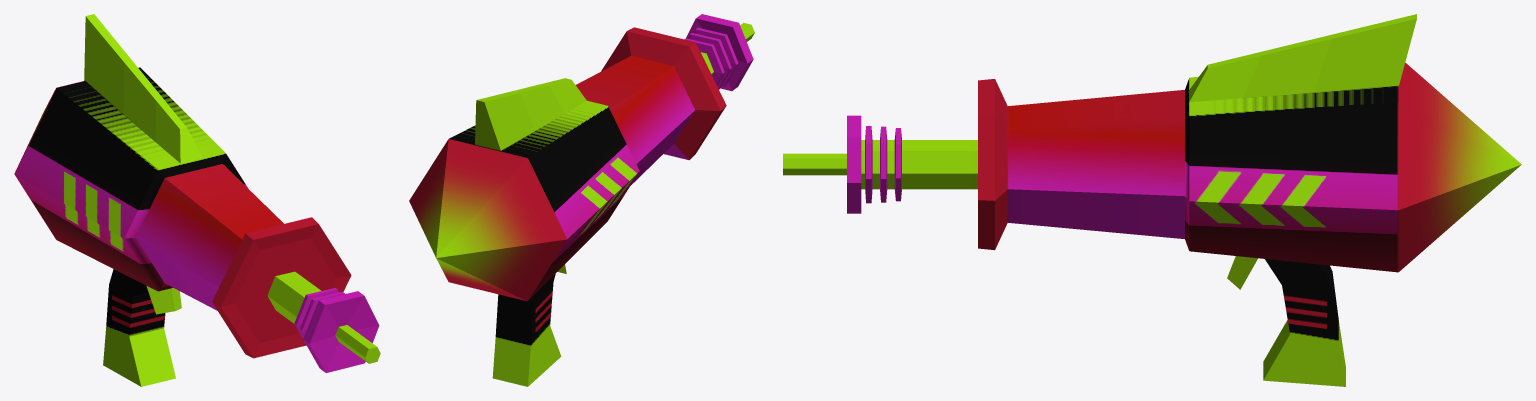
Rendered from lasergun.fbx.
The picture shows the model from 3 angles, left to right: view 1: azimuth 30°, elevation 25°; view 2: azimuth 150°, elevation 25°; view 3: azimuth 270°, elevation 25°; orthographic projection. The views are drawn at different scales.
Parts seen in each view (by area): view 1: pCylinder1; view 2: pCylinder1; view 3: pCylinder1.
Part boxes in pixels (bbox=[...]): pCylinder1: bbox=[14, 14, 380, 386]; pCylinder1: bbox=[409, 14, 754, 386]; pCylinder1: bbox=[783, 14, 1521, 386].
Size of the model in its own units: 0.204 by 0.3744 by 0.6956.
1 material, 1 textured.
